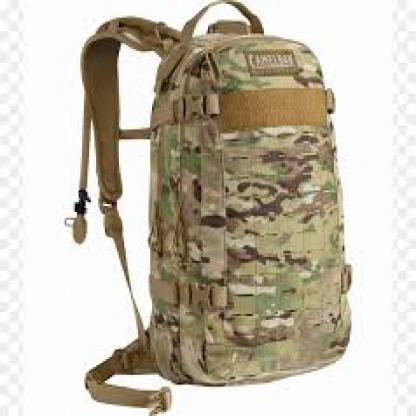morral: (50, 4, 382, 414)
